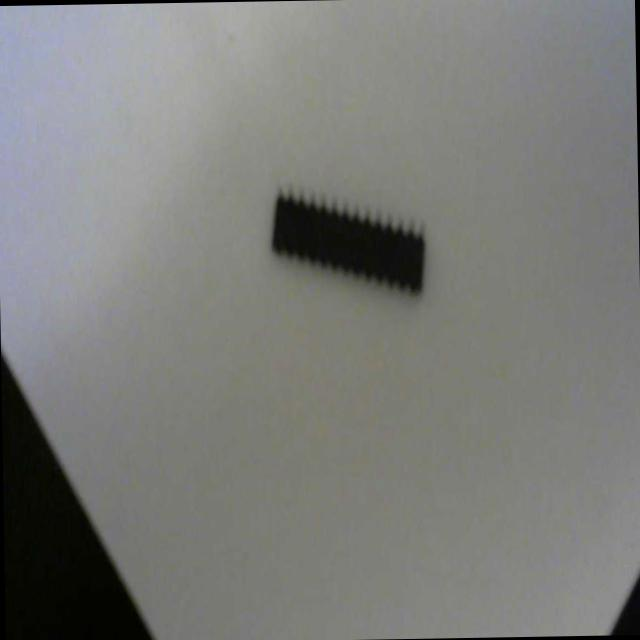atmega: (266, 178, 429, 304)
